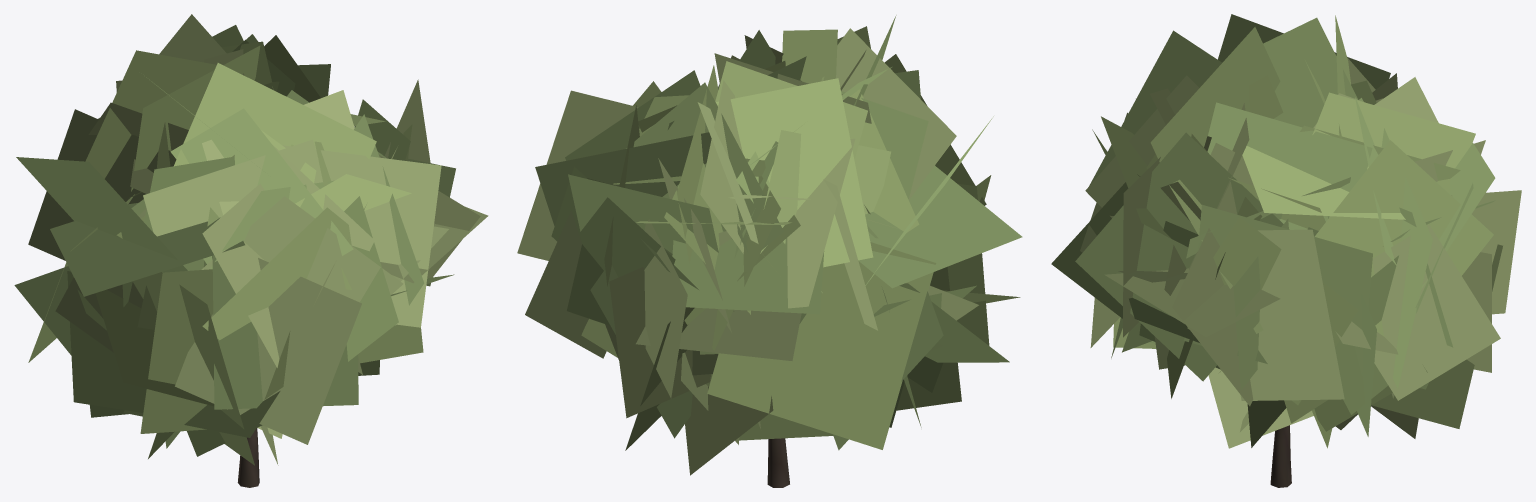
Rendered from robinia_lod1.glb.
3 renders of one model, left to right at view 1: azimuth 30°, elevation 25°; view 2: azimuth 150°, elevation 25°; view 3: azimuth 270°, elevation 25°, orthographic. The views are drawn at different scales.
Parts seen in each view (by area): view 1: robinia_lod1; view 2: robinia_lod1; view 3: robinia_lod1.
Part boxes in pixels (left/top/right/bottom): robinia_lod1: left=14, top=14, right=488, bottom=487; robinia_lod1: left=517, top=15, right=1022, bottom=487; robinia_lod1: left=1051, top=14, right=1521, bottom=487.
Bounding box in the file's own units: 1 × 1 × 0.9792.
